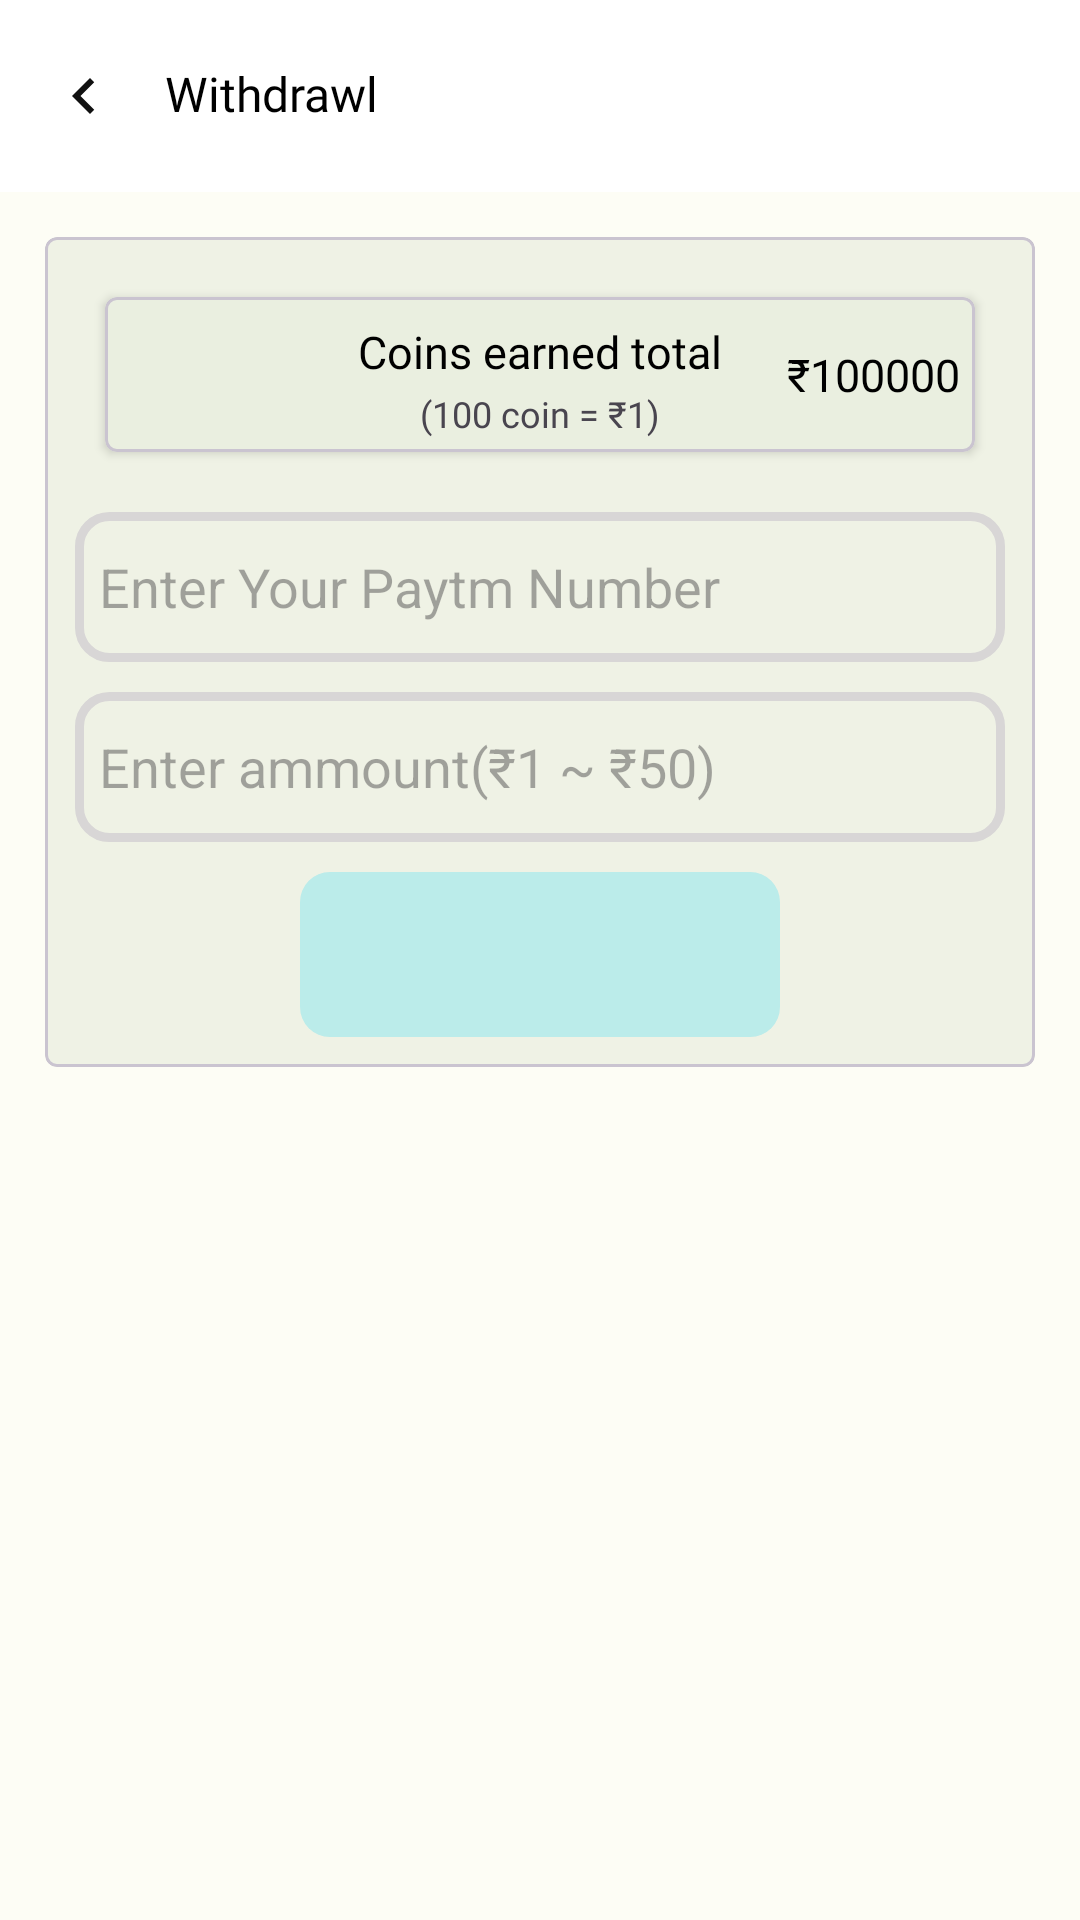

Icons on this 1080 x 1920 Android screen, each with the point to tap as (x=x, y=y):
chevron left: (x=83, y=96)
